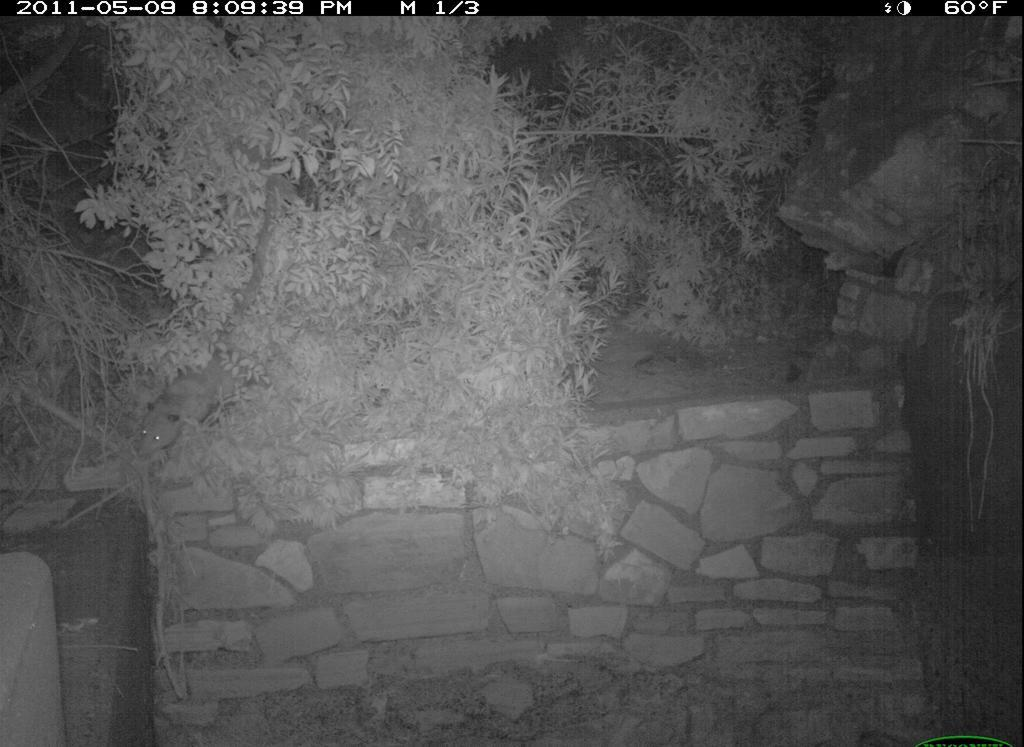opossum: (143, 365, 229, 479)
